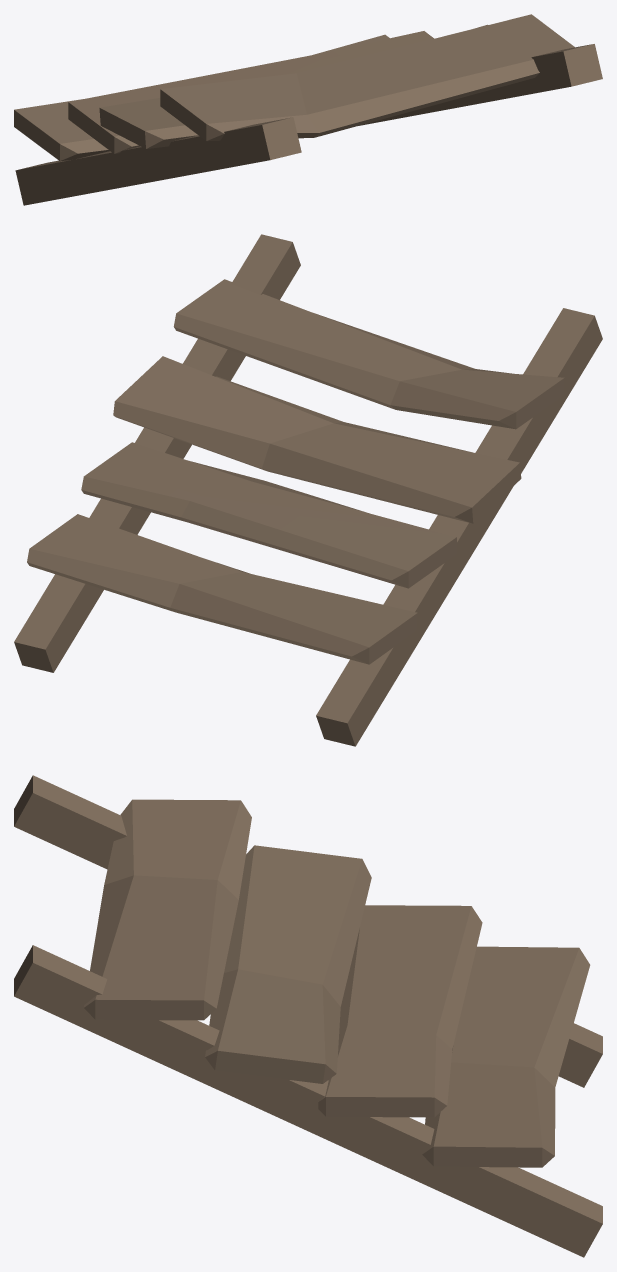
File: env_structure_stairs.gltf
3 views of the same model, one above another, from view 1: azimuth 30°, elevation 25°; view 2: azimuth 150°, elevation 25°; view 3: azimuth 270°, elevation 25° (orthographic). The views are drawn at different scales.
Parts seen in each view (by area): view 1: env_structure_stairs; view 2: env_structure_stairs; view 3: env_structure_stairs.
Part boxes in pixels (x1=…): env_structure_stairs: x1=14, y1=14, x2=602, y2=205; env_structure_stairs: x1=14, y1=234, x2=602, y2=746; env_structure_stairs: x1=14, y1=775, x2=602, y2=1257.
Bounding box in the file's own units: 0.847 × 0.5536 × 1.
1 material, 1 textured.
